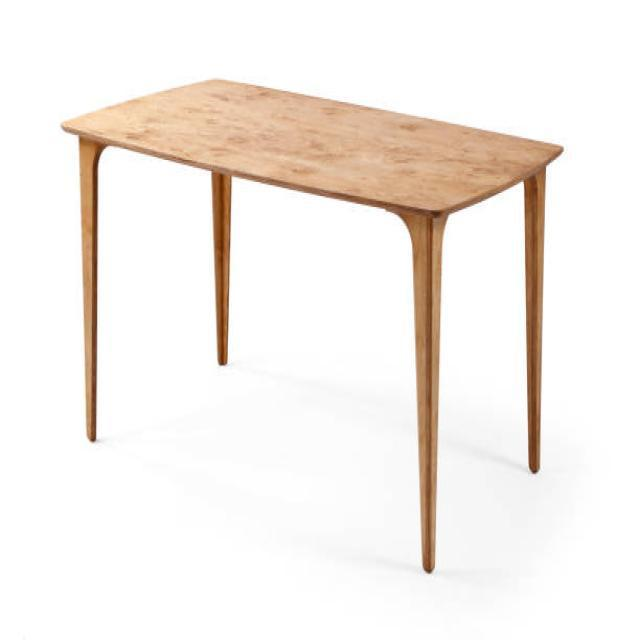table: (59, 75, 564, 573)
